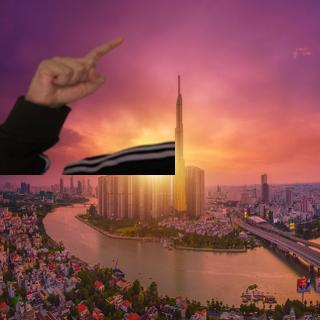WHY: (25, 28, 127, 107)
